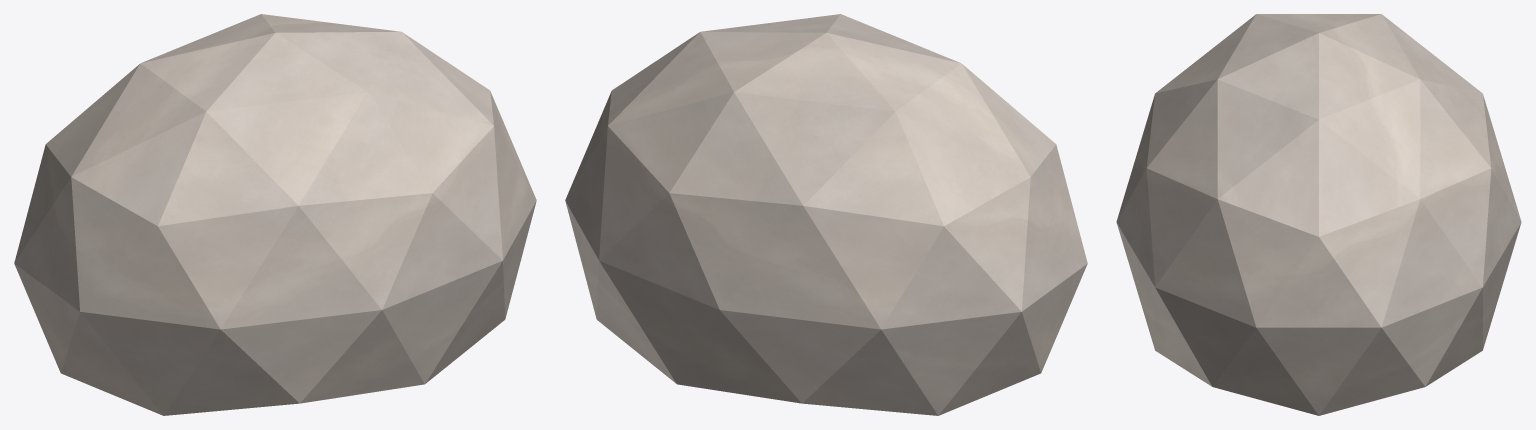
File: stone_pebble-DntMRvHR.glb
The picture shows the model from 3 angles, left to right: view 1: azimuth 30°, elevation 25°; view 2: azimuth 150°, elevation 25°; view 3: azimuth 270°, elevation 25°; orthographic projection. The views are drawn at different scales.
Parts seen in each view (by area): view 1: HI_stone_pebble; view 2: HI_stone_pebble; view 3: HI_stone_pebble.
Part boxes in pixels (<box>): HI_stone_pebble: <box>14,14,536,415</box>; HI_stone_pebble: <box>565,14,1087,415</box>; HI_stone_pebble: <box>1116,14,1521,415</box>.
Bounding box in the file's own units: 0.42 × 0.28 × 0.34.
Materials: 1 (1 with a texture image).
